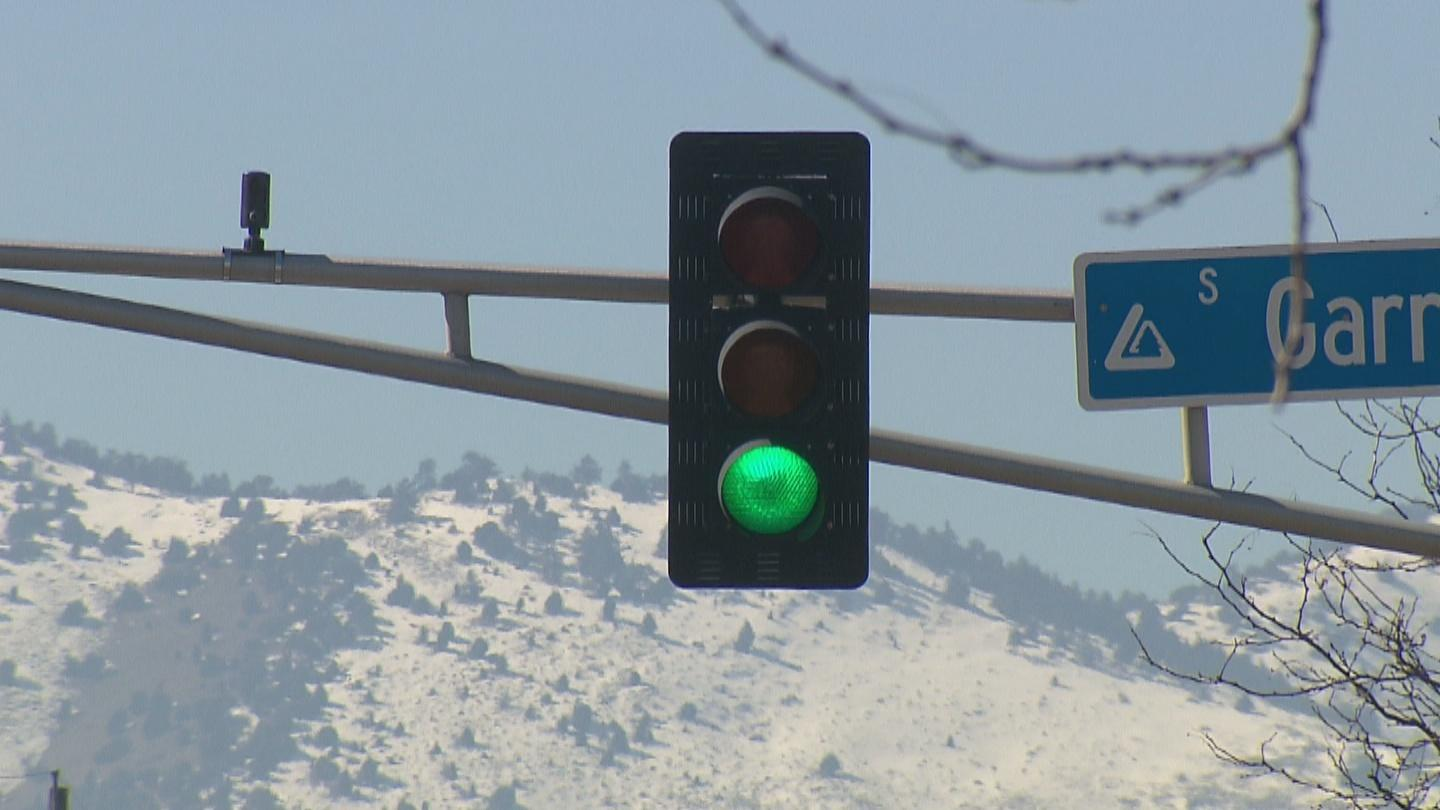Traffic light green: (666, 132, 868, 576)
